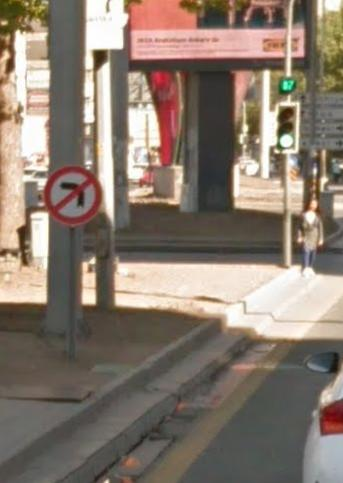greenlight: (276, 97, 299, 153)
leftturnsareforbidden: (43, 166, 99, 222)
